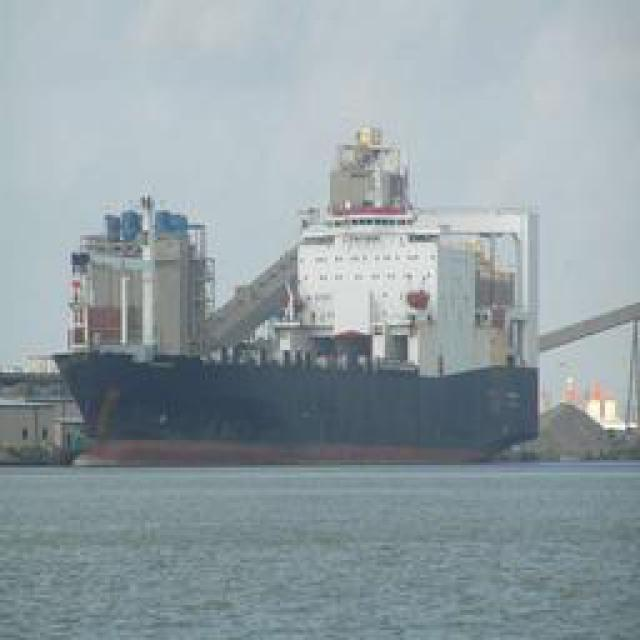Ship: (39, 342, 549, 467)
